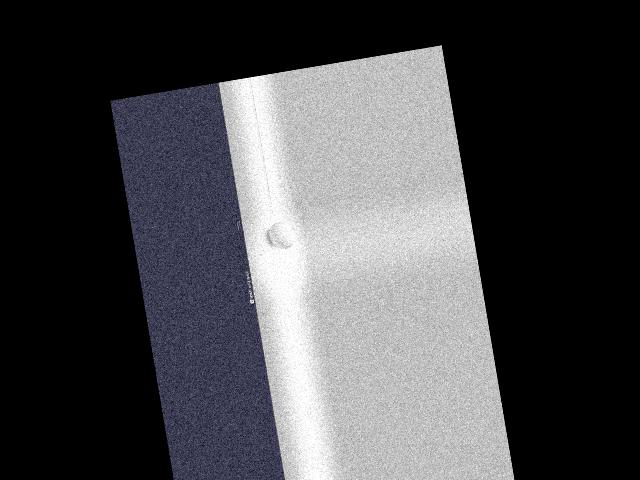egg: (266, 219, 295, 250)
